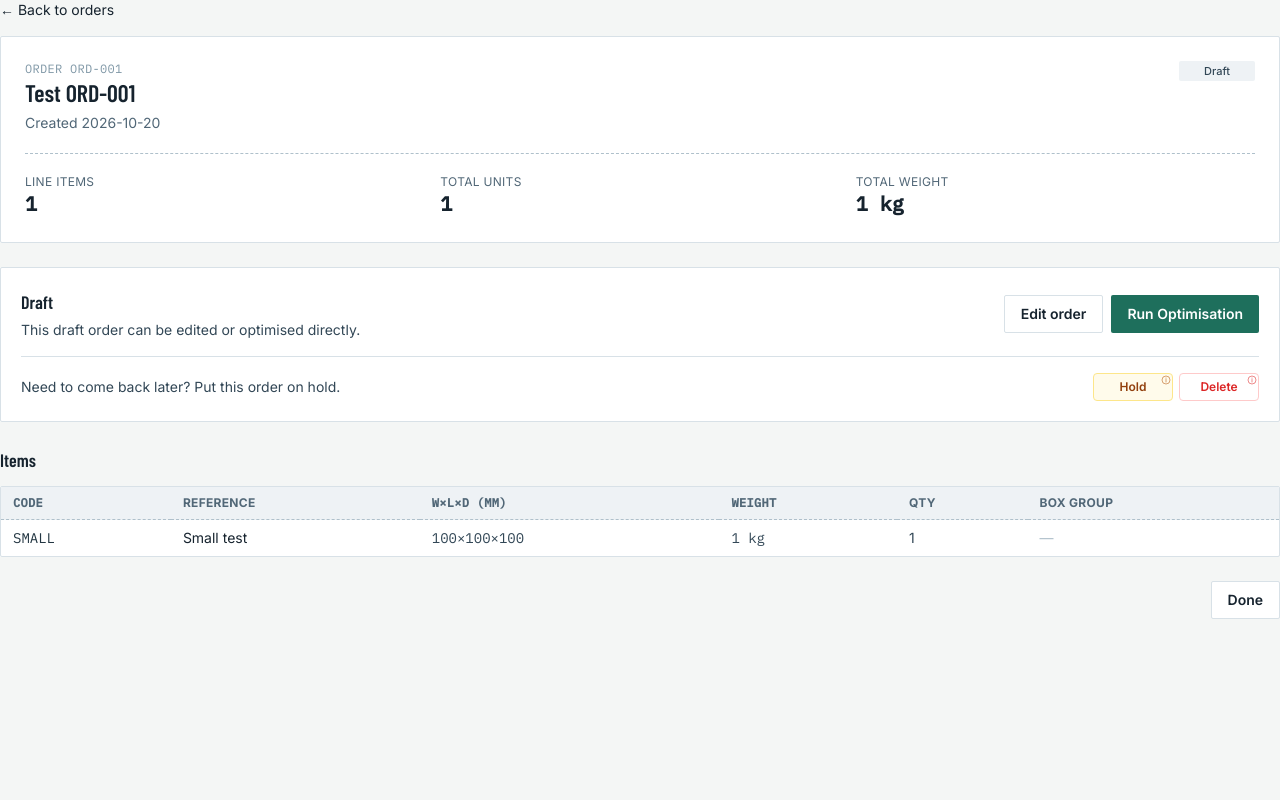
Test: direct draft optimisation › shows Rejected if direct draft optimisation cannot pack every item
Click the button "Run Optimisation" at (1185, 314), box [1111, 295, 1259, 333]
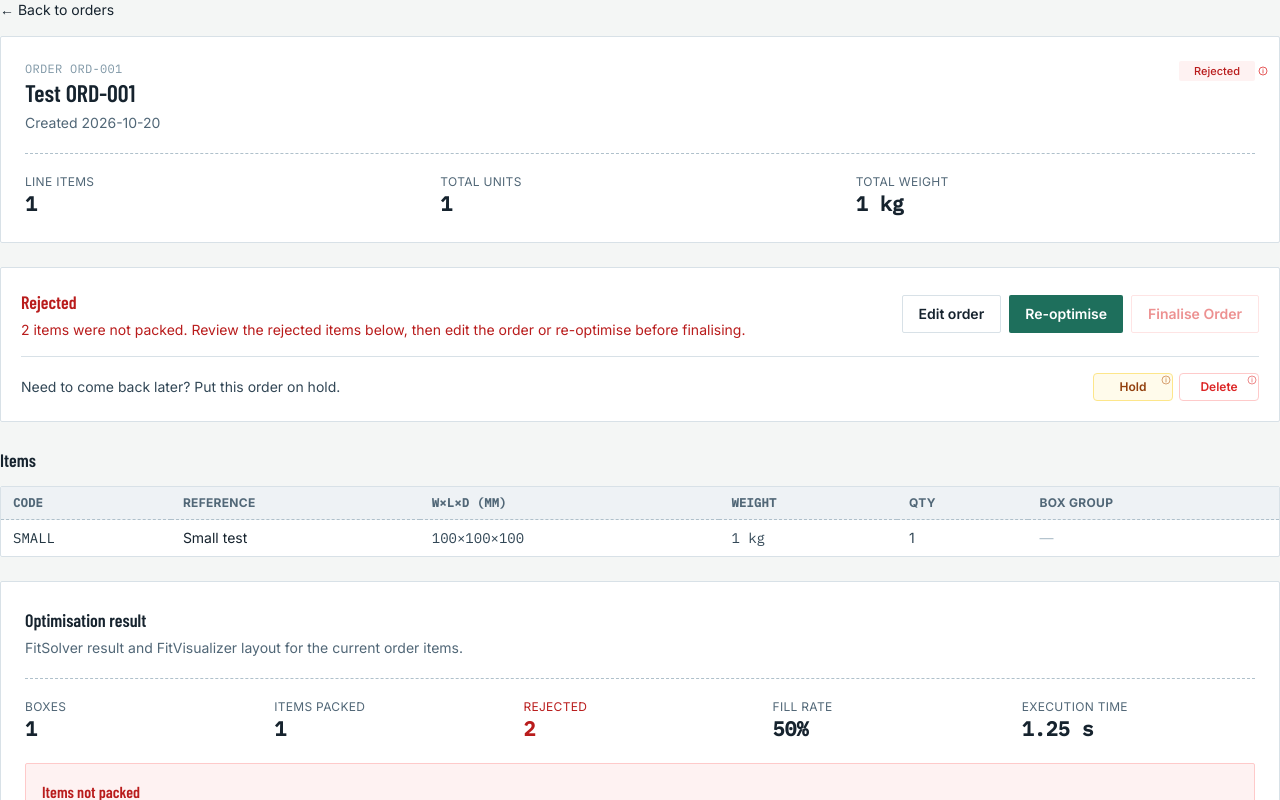
Expected: the button "Finalise Order" is disabled, [1131, 295, 1259, 333]
Expected: the text "2 items were not packed" is shown, [21, 321, 746, 338]
